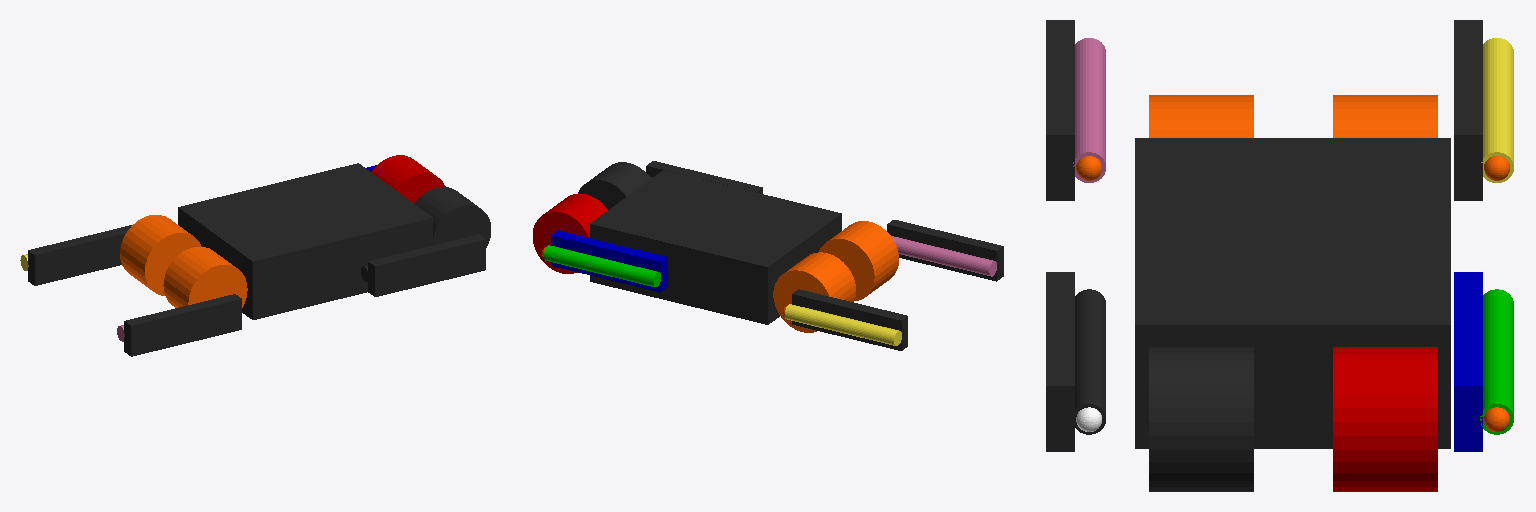
robot.urdf — a1_description:
<?xml version="1.0" ?>
<robot name="a1_description" xmlns:xacro="http://www.ros.org/wiki/xacro">
  <material name="black">
    <color rgba="0.0 0.0 0.0 1.0"/>
  </material>
  <material name="blue">
    <color rgba="0.0 0.0 0.8 1.0"/>
  </material>
  <material name="green">
    <color rgba="0.0 0.8 0.0 1.0"/>
  </material>
  <material name="grey">
    <color rgba="0.2 0.2 0.2 1.0"/>
  </material>
  <material name="silver">
    <color rgba="0.913725490196 0.913725490196 0.847058823529 1.0"/>
  </material>
  <material name="orange">
    <color rgba="1.0 0.423529411765 0.0392156862745 1.0"/>
  </material>
  <material name="brown">
    <color rgba="0.870588235294 0.811764705882 0.764705882353 1.0"/>
  </material>
  <material name="red">
    <color rgba="0.8 0.0 0.0 1.0"/>
  </material>
  <material name="white">
    <color rgba="1.0 1.0 1.0 1.0"/>
  </material>
  <link name="trunk">
    <visual>
      <origin rpy="0 0 0" xyz="0 0 0"/>
      <geometry>
        <box size="0.335 0.24 0.104"/>
      </geometry>
      <material name="grey"/>
    </visual>
    <collision>
      <origin rpy="0 0 0" xyz="0 0 0"/>
      <geometry>
        <box size="0.335 0.24 0.104"/>
      </geometry>
    </collision>
    <inertial>
      <origin rpy="0 0 0" xyz="0 0 0"/>
      <mass value="5.75"/>
      <inertia ixx="0.01683993" ixy="8.3902e-05" ixz="0.000597679" iyy="0.056579028" iyz="2.5134e-05" izz="0.064713601"/>
    </inertial>
  </link>
 
  <joint name="FR_hip_joint" type="revolute">
    <origin rpy="0 0 0" xyz="0.2263 -0.07 0"/>
    <parent link="trunk"/>
    <child link="FR_hip"/>
    <axis xyz="1 0 0"/>
    <dynamics damping="0" friction="0"/>
    <limit effort="20" lower="-0.707" upper="0.707" velocity="52.4"/>
  </joint>
  <link name="FR_hip">
    <visual>
      <origin rpy="1.57079632679 0 0" xyz="0 0 0"/>
      <geometry>
        <cylinder length="0.08" radius="0.055"/>
      </geometry>
      <material name="grey"/>
    </visual>
    <collision>
      <origin rpy="1.57079632679 0 0" xyz="0 0 0"/>
      <geometry>
        <cylinder length="0.08" radius="0.055"/>
      </geometry>
    </collision>
    <inertial>
      <origin rpy="0 0 0" xyz="-0.003311 -0.000635 3.1e-05"/>
      <mass value="0.575"/>
      <inertia ixx="0.000469246" ixy="9.409e-06" ixz="-3.42e-07" iyy="0.00080749" iyz="4.66e-07" izz="0.000552929"/>
    </inertial>
  </link>
  <joint name="FR_hip_fixed" type="fixed">
    <origin rpy="0 0 0" xyz="0 -0.081 0"/>
    <parent link="FR_hip"/>
    <child link="FR_upper_shoulder"/>
  </joint>
  <!-- this link is only for collision -->
  <link name="FR_upper_shoulder">
    <collision>
      <origin rpy="1.57079632679 0 0" xyz="0 0 0"/>
      <geometry>
        <cylinder length="0.032" radius="0.041"/>
      </geometry>
    </collision>
  </link>
  <joint name="FR_upper_joint" type="revolute">
    <origin rpy="0 0 0" xyz="0 -0.08505 0"/>
    <parent link="FR_hip"/>
    <child link="FR_upper"/>
    <axis xyz="0 1 0"/>
    <dynamics damping="0" friction="0"/>
    <limit effort="55" lower="-6.28318530718" upper="6.28318530718" velocity="28.6"/>
  </joint>
  <link name="FR_upper">
    <visual>
      <origin rpy="0 0 0" xyz="-0.103 -0.022 0"/>
      <geometry>
        <box size="0.206 0.022 0.055"/>
      </geometry>
      <material name="grey"/>
    </visual>
    <collision>
      <origin rpy="0 0 0" xyz="-0.103 -0.022 0"/>
      <geometry>
        <box size="0.206 0.022 0.055"/>
      </geometry>
    </collision>
    <inertial>
      <origin rpy="0 0 0" xyz="-0.003237 0.022327 -0.027326"/>
      <mass value="0.775"/>
      <inertia ixx="0.005529065" ixy="-4.825e-06" ixz="0.000343869" iyy="0.005139339" iyz="-2.2448e-05" izz="0.001367788"/>
    </inertial>
  </link>
  <joint name="FR_lower_joint" type="revolute">
    <origin rpy="0 0 0" xyz="-0.206 0 0"/>
    <parent link="FR_upper"/>
    <child link="FR_lower"/>
    <axis xyz="0 1 0"/>
    <dynamics damping="0" friction="0"/>
    <limit effort="55" lower="0" upper="3.14159265359" velocity="28.6"/>
  </joint>
  <link name="FR_lower">
    <visual>
      <origin rpy="0 1.5707963268 0" xyz="0.103 0 0"/>
      <geometry>
        <cylinder length="0.206" radius="0.013"/>
      </geometry>
      <material name="grey"/>
    </visual>
    <collision>
      <origin rpy="0 1.5707963268 0" xyz="0.103 0 0"/>
      <geometry>
        <cylinder length="0.206" radius="0.013"/>
      </geometry>
    </collision>
    <inertial>
      <mass value="0.075"/>
      <inertia ixx="5e-06" ixy="0" ixz="0" iyy="0.0001" iyz="0" izz="0.0001"/>
    </inertial>
  </link>
  <joint name="FR_toe_fixed" type="fixed">
     <origin xyz="0.206 0 -0.0"/>
    <parent link="FR_lower"/>
    <child link="FR_toe"/>
  </joint>
  <link name="FR_toe">
    <visual>
      <origin rpy="0 0 0" xyz="0 0 0"/>
      <geometry>
        <sphere radius="0.01"/>
      </geometry>
      <material name="white"/>
    </visual>
    <collision>
      <origin rpy="0 0 0" xyz="0 0 0"/>
      <geometry>
        <sphere radius="0.02"/>
      </geometry>
    </collision>
    <inertial>
      <mass value="0.06"/>
      <inertia ixx="9.6e-06" ixy="0.0" ixz="0.0" iyy="9.6e-06" iyz="0.0" izz="9.6e-06"/>
    </inertial>
  </link>
  
  <joint name="FL_hip_joint" type="revolute">
    <origin rpy="0 0 0" xyz="0.2263 0.07 0"/>
    <parent link="trunk"/>
    <child link="FL_hip"/>
    <axis xyz="1 0 0"/>
    <dynamics damping="0" friction="0"/>
    <limit effort="20" lower="-0.707" upper="0.707" velocity="52.4"/>
  </joint>
  <link name="FL_hip">
    <visual>
      <origin rpy="1.57079632679 0 0" xyz="0 0 0"/>
      <geometry>
        <cylinder length="0.08" radius="0.055"/>
      </geometry>
      <material name="red"/>
    </visual>
    <collision>
      <origin rpy="1.57079632679 0 0" xyz="0 0 0"/>
      <geometry>
        <cylinder length="0.08" radius="0.055"/>
      </geometry>
    </collision>
    <inertial>
      <origin rpy="0 0 0" xyz="-0.003311 0.000635 3.1e-05"/>
      <mass value="0.575"/>
      <inertia ixx="0.000469246" ixy="-9.409e-06" ixz="-3.42e-07" iyy="0.00080749" iyz="-4.66e-07" izz="0.000552929"/>
    </inertial>
  </link>
  <joint name="FL_hip_fixed" type="fixed">
    <origin rpy="0 0 0" xyz="0 0.081 0"/>
    <parent link="FL_hip"/>
    <child link="FL_upper_shoulder"/>
  </joint>
  <!-- this link is only for collision -->
  <link name="FL_upper_shoulder">
    <collision>
      <origin rpy="1.57079632679 0 0" xyz="0 0 0"/>
      <geometry>
        <cylinder length="0.032" radius="0.041"/>
      </geometry>
    </collision>
  </link>
  <joint name="FL_upper_joint" type="revolute">
    <origin rpy="0 0 0" xyz="0 0.08505 0"/>
    <parent link="FL_hip"/>
    <child link="FL_upper"/>
    <axis xyz="0 1 0"/>
    <dynamics damping="0" friction="0"/>
    <limit effort="55" lower="-6.28318530718" upper="6.28318530718" velocity="28.6"/>
  </joint>
  <link name="FL_upper">
    <visual>
      <origin rpy="0 0 0" xyz="-0.103 -0.022 0"/>
      <geometry>
        <box size="0.206 0.022 0.055"/>
      </geometry>
      <material name="blue"/>
    </visual>
    <collision>
      <origin rpy="0 0 0" xyz="-0.103 -0.022 0"/>
      <geometry>
        <box size="0.206 0.022 0.055"/>
      </geometry>
    </collision>
    <inertial>
      <origin rpy="0 0 0" xyz="-0.003237 -0.022327 -0.027326"/>
      <mass value="0.775"/>
      <inertia ixx="0.005529065" ixy="4.825e-06" ixz="0.000343869" iyy="0.005139339" iyz="2.2448e-05" izz="0.001367788"/>
    </inertial>
  </link>
  <joint name="FL_lower_joint" type="revolute">
     <origin xyz="-0.206 0 0"/>
    <parent link="FL_upper"/>
    <child link="FL_lower"/>
    <axis xyz="0 1 0"/>
    <dynamics damping="0" friction="0"/>
    <limit effort="55" lower="0" upper="3.14159265359" velocity="28.6"/>
  </joint>
  <link name="FL_lower">
    <visual>
      <origin rpy="0 1.5707963268 0" xyz="0.103 0 0"/>
      <geometry>
        <cylinder length="0.206" radius="0.013"/>
      </geometry>
      <material name="green"/>
    </visual>
    <collision>
      <origin rpy="0 1.5707963268 0" xyz="0.103 0 0"/>
      <geometry>
        <cylinder length="0.206" radius="0.013"/>
      </geometry>
    </collision>
    <inertial>
      <mass value="0.075"/>
      <inertia ixx="5e-06" ixy="0" ixz="0" iyy="0.0001" iyz="0" izz="0.0001"/>
    </inertial>
  </link>
  <joint name="FL_toe_fixed" type="fixed">
    <origin xyz="0.206 0 -0.0"/>
    <parent link="FL_lower"/>
    <child link="FL_toe"/>
  </joint>
  <link name="FL_toe">
    <visual>
      <origin rpy="0 0 0" xyz="0 0 0"/>
      <geometry>
        <sphere radius="0.01"/>
      </geometry>
      <material name="orange"/>
    </visual>
    <collision>
      <origin rpy="0 0 0" xyz="0 0 0"/>
      <geometry>
        <sphere radius="0.02"/>
      </geometry>
    </collision>
    <inertial>
      <mass value="0.06"/>
      <inertia ixx="9.6e-06" ixy="0.0" ixz="0.0" iyy="9.6e-06" iyz="0.0" izz="9.6e-06"/>
    </inertial>
  </link>
  <transmission name="FL_hip_tran">
    <type>transmission_interface/SimpleTransmission</type>
    <joint name="FL_hip_joint">
      <hardwareInterface>hardware_interface/EffortJointInterface</hardwareInterface>
    </joint>
    <actuator name="FL_hip_motor">
      <hardwareInterface>hardware_interface/EffortJointInterface</hardwareInterface>
      <mechanicalReduction>1</mechanicalReduction>
    </actuator>
  </transmission>
  <transmission name="FL_upper_tran">
    <type>transmission_interface/SimpleTransmission</type>
    <joint name="FL_upper_joint">
      <hardwareInterface>hardware_interface/EffortJointInterface</hardwareInterface>
    </joint>
    <actuator name="FL_upper_motor">
      <hardwareInterface>hardware_interface/EffortJointInterface</hardwareInterface>
      <mechanicalReduction>1</mechanicalReduction>
    </actuator>
  </transmission>
  <transmission name="FL_lower_tran">
    <type>transmission_interface/SimpleTransmission</type>
    <joint name="FL_lower_joint">
      <hardwareInterface>hardware_interface/EffortJointInterface</hardwareInterface>
    </joint>
    <actuator name="FL_lower_motor">
      <hardwareInterface>hardware_interface/EffortJointInterface</hardwareInterface>
      <mechanicalReduction>1</mechanicalReduction>
    </actuator>
  </transmission>
  <joint name="RR_hip_joint" type="revolute">
    <origin rpy="0 0 0" xyz="-0.2263 -0.07 0"/>
    <parent link="trunk"/>
    <child link="RR_hip"/>
    <axis xyz="1 0 0"/>
    <dynamics damping="0" friction="0"/>
    <limit effort="20" lower="-0.707" upper="0.707" velocity="52.4"/>
  </joint>
  <link name="RR_hip">
    <visual>
      <origin rpy="1.57079632679 0 0" xyz="0 0 0"/>
      <geometry>
        <cylinder length="0.08" radius="0.055"/>
      </geometry>
      <material name="orange"/>
    </visual>
    <collision>
      <origin rpy="1.57079632679 0 0" xyz="0 0 0"/>
      <geometry>
        <cylinder length="0.08" radius="0.055"/>
      </geometry>
    </collision>
    <inertial>
      <origin rpy="0 0 0" xyz="0.003311 -0.000635 3.1e-05"/>
      <mass value="0.575"/>
      <inertia ixx="0.000469246" ixy="-9.409e-06" ixz="3.42e-07" iyy="0.00080749" iyz="4.66e-07" izz="0.000552929"/>
    </inertial>
  </link>
  <joint name="RR_hip_fixed" type="fixed">
    <origin rpy="0 0 0" xyz="0 -0.081 0"/>
    <parent link="RR_hip"/>
    <child link="RR_upper_shoulder"/>
  </joint>
  <!-- this link is only for collision -->
  <link name="RR_upper_shoulder">
    <collision>
      <origin rpy="1.57079632679 0 0" xyz="0 0 0"/>
      <geometry>
        <cylinder length="0.032" radius="0.041"/>
      </geometry>
    </collision>
  </link>
  <joint name="RR_upper_joint" type="revolute">
    <origin rpy="0 0 0" xyz="0 -0.08505 0"/>
    <parent link="RR_hip"/>
    <child link="RR_upper"/>
    <axis xyz="0 1 0"/>
    <dynamics damping="0" friction="0"/>
    <limit effort="55" lower="-6.28318530718" upper="6.28318530718" velocity="28.6"/>
  </joint>
  <link name="RR_upper">
    <visual>
      <origin rpy="0 0 0" xyz="-0.103 -0.022 0"/>
      <geometry>
        <box size="0.206 0.022 0.055"/>
      </geometry>
      <material name="grey"/>
    </visual>
    <collision>
      <origin rpy="0 0 0" xyz="-0.103 -0.022 0"/>
      <geometry>
        <box size="0.206 0.022 0.055"/>
      </geometry>
    </collision>
    <inertial>
      <origin rpy="0 0 0" xyz="-0.003237 0.022327 -0.027326"/>
      <mass value="0.775"/>
      <inertia ixx="0.005529065" ixy="-4.825e-06" ixz="0.000343869" iyy="0.005139339" iyz="-2.2448e-05" izz="0.001367788"/>
    </inertial>
  </link>
  <joint name="RR_lower_joint" type="revolute">
    <origin rpy="0 0 0" xyz="-0.206 0 0"/>
    <parent link="RR_upper"/>
    <child link="RR_lower"/>
    <axis xyz="0 1 0"/>
    <dynamics damping="0" friction="0"/>
    <limit effort="55" lower="0" upper="3.14159265359" velocity="28.6"/>
  </joint>
  <link name="RR_lower">
    <visual>
      <origin rpy="0 1.5707963268 0" xyz="0.103 0 0"/>
      <geometry>
        <cylinder length="0.206" radius="0.013"/>
      </geometry>
      <material name="darkgray"/>
    </visual>
    <collision>
      <origin rpy="0 1.5707963268 0" xyz="0.103 0 0"/>
      <geometry>
        <cylinder length="0.206" radius="0.013"/>
      </geometry>
    </collision>
    <inertial>
      <mass value="0.075"/>
      <inertia ixx="5e-06" ixy="0" ixz="0" iyy="0.0001" iyz="0" izz="0.0001"/>
    </inertial>
  </link>
  <joint name="RR_toe_fixed" type="fixed">
  <origin xyz="0.206 0 -0.0"/>
    <parent link="RR_lower"/>
    <child link="RR_toe"/>
  </joint>
  <link name="RR_toe">
    <visual>
      <origin rpy="0 0 0" xyz="0 0 0"/>
      <geometry>
        <sphere radius="0.01"/>
      </geometry>
      <material name="orange"/>
    </visual>
    <collision>
      <origin rpy="0 0 0" xyz="0 0 0"/>
      <geometry>
        <sphere radius="0.02"/>
      </geometry>
    </collision>
    <inertial>
      <mass value="0.06"/>
      <inertia ixx="9.6e-06" ixy="0.0" ixz="0.0" iyy="9.6e-06" iyz="0.0" izz="9.6e-06"/>
    </inertial>
  </link>
  <transmission name="RR_hip_tran">
    <type>transmission_interface/SimpleTransmission</type>
    <joint name="RR_hip_joint">
      <hardwareInterface>hardware_interface/EffortJointInterface</hardwareInterface>
    </joint>
    <actuator name="RR_hip_motor">
      <hardwareInterface>hardware_interface/EffortJointInterface</hardwareInterface>
      <mechanicalReduction>1</mechanicalReduction>
    </actuator>
  </transmission>
  <transmission name="RR_upper_tran">
    <type>transmission_interface/SimpleTransmission</type>
    <joint name="RR_upper_joint">
      <hardwareInterface>hardware_interface/EffortJointInterface</hardwareInterface>
    </joint>
    <actuator name="RR_upper_motor">
      <hardwareInterface>hardware_interface/EffortJointInterface</hardwareInterface>
      <mechanicalReduction>1</mechanicalReduction>
    </actuator>
  </transmission>
  <transmission name="RR_lower_tran">
    <type>transmission_interface/SimpleTransmission</type>
    <joint name="RR_lower_joint">
      <hardwareInterface>hardware_interface/EffortJointInterface</hardwareInterface>
    </joint>
    <actuator name="RR_lower_motor">
      <hardwareInterface>hardware_interface/EffortJointInterface</hardwareInterface>
      <mechanicalReduction>1</mechanicalReduction>
    </actuator>
  </transmission>
  <joint name="RL_hip_joint" type="revolute">
    <origin rpy="0 0 0" xyz="-0.2263 0.07 0"/>
    <parent link="trunk"/>
    <child link="RL_hip"/>
    <axis xyz="1 0 0"/>
    <dynamics damping="0" friction="0"/>
    <limit effort="20" lower="-0.707" upper="0.707" velocity="52.4"/>
  </joint>
  <link name="RL_hip">
    <visual>
      <origin rpy="1.57079632679 0 0" xyz="0 0 0"/>
      <geometry>
        <cylinder length="0.08" radius="0.055"/>
      </geometry>
      <material name="orange"/>
    </visual>
    <collision>
      <origin rpy="1.57079632679 0 0" xyz="0 0 0"/>
      <geometry>
        <cylinder length="0.08" radius="0.055"/>
      </geometry>
    </collision>
    <inertial>
      <origin rpy="0 0 0" xyz="0.003311 0.000635 3.1e-05"/>
      <mass value="0.575"/>
      <inertia ixx="0.000469246" ixy="9.409e-06" ixz="3.42e-07" iyy="0.00080749" iyz="-4.66e-07" izz="0.000552929"/>
    </inertial>
  </link>
  <joint name="RL_hip_fixed" type="fixed">
    <origin rpy="0 0 0" xyz="0 0.081 0"/>
    <parent link="RL_hip"/>
    <child link="RL_upper_shoulder"/>
  </joint>
  <!-- this link is only for collision -->
  <link name="RL_upper_shoulder">
    <collision>
      <origin rpy="1.57079632679 0 0" xyz="0 0 0"/>
      <geometry>
        <cylinder length="0.032" radius="0.041"/>
      </geometry>
    </collision>
  </link>
  <joint name="RL_upper_joint" type="revolute">
    <origin rpy="0 0 0" xyz="0 0.08505 0"/>
    <parent link="RL_hip"/>
    <child link="RL_upper"/>
    <axis xyz="0 1 0"/>
    <dynamics damping="0" friction="0"/>
    <limit effort="55" lower="-6.28318530718" upper="6.28318530718" velocity="28.6"/>
  </joint>
  <link name="RL_upper">
    <visual>
      <origin rpy="0 0 0" xyz="-0.103 -0.022 0"/>
      <geometry>
        <box size="0.206 0.022 0.055"/>
      </geometry>
      <material name="grey"/>
    </visual>
    <collision>
      <origin rpy="0 0 0" xyz="-0.103 -0.022 0"/>
      <geometry>
        <box size="0.206 0.022 0.055"/>
      </geometry>
    </collision>
    <inertial>
      <origin rpy="0 0 0" xyz="-0.003237 0.022327 -0.027326"/>
      <mass value="0.775"/>
      <inertia ixx="0.005529065" ixy="-4.825e-06" ixz="0.000343869" iyy="0.005139339" iyz="-2.2448e-05" izz="0.001367788"/>
    </inertial>
  </link>
  <joint name="RL_lower_joint" type="revolute">
    <axis xyz="0 1 0"/>
    <origin xyz="-0.206 0 0"/>
    <parent link="RL_upper"/>
    <child link="RL_lower"/>
    <axis xyz="0 1 0"/>
    <dynamics damping="0" friction="0"/>
    <limit effort="55" lower="0" upper="3.14159265359" velocity="28.6"/>
  </joint>
  <link name="RL_lower">
     <visual>
      <origin rpy="0 1.5707963268 0" xyz="0.103 0 0"/>
      <geometry>
        <cylinder length="0.206" radius="0.013"/>
      </geometry>
      <material name="darkgray"/>
    </visual>
    <collision>
      <origin rpy="0 1.5707963268 0" xyz="0.103 0 0"/>
      <geometry>
        <cylinder length="0.206" radius="0.013"/>
      </geometry>
    </collision>
    <inertial>
      <mass value="0.075"/>
      <inertia ixx="5e-06" ixy="0" ixz="0" iyy="0.0001" iyz="0" izz="0.0001"/>
    </inertial>
  </link>
  <joint name="RL_toe_fixed" type="fixed">
    <origin xyz="0.206 0 -0.0"/>
    <parent link="RL_lower"/>
    <child link="RL_toe"/>
  </joint>
  <link name="RL_toe">
    <visual>
      <origin rpy="0 0 0" xyz="0 0 0"/>
      <geometry>
        <sphere radius="0.01"/>
      </geometry>
      <material name="orange"/>
    </visual>
    <collision>
      <origin rpy="0 0 0" xyz="0 0 0"/>
      <geometry>
        <sphere radius="0.02"/>
      </geometry>
    </collision>
    <inertial>
      <mass value="0.06"/>
      <inertia ixx="9.6e-06" ixy="0.0" ixz="0.0" iyy="9.6e-06" iyz="0.0" izz="9.6e-06"/>
    </inertial>
  </link>
</robot>

--- Render facts (derived) ---
3 views of the same robot in one strip: view 1: azimuth 30°, elevation 25°; view 2: azimuth 150°, elevation 25°; view 3: azimuth 270°, elevation 25° (orthographic).
Model a1_description with 21 links and 20 joints (12 revolute, 8 fixed), rooted at trunk, posed every joint at zero.
Visible links, largest first — view 1: trunk, FR_upper, RR_upper, RL_hip, RR_hip, RL_upper, FR_hip, FL_hip; view 2: trunk, RR_hip, RL_hip, FL_upper, RL_upper, RR_upper, FL_hip, FL_lower, RL_lower, FR_hip, RR_lower, FR_upper; view 3: trunk, FR_hip, FL_hip, RL_upper, RR_upper, FR_upper, FL_upper, RR_hip, RL_hip, FL_lower, FR_lower, RR_lower (+1 smaller).
Link boxes in pixels (x1,y1,x2,y2): trunk: (178,163,432,319); FR_upper: (368,234,485,296); RR_upper: (124,294,241,356); RL_hip: (120,215,201,295); RR_hip: (163,247,247,307); RL_upper: (28,225,131,285); FR_hip: (415,187,490,247); FL_hip: (372,155,445,203); trunk: (590,170,841,324); RR_hip: (819,221,898,300); RL_hip: (773,252,855,332); FL_upper: (551,230,667,292); RL_upper: (792,289,907,350); RR_upper: (887,220,1003,281); FL_hip: (533,194,607,273); FL_lower: (544,245,660,286); RL_lower: (785,304,901,345); FR_hip: (578,162,650,209); RR_lower: (891,236,996,276); FR_upper: (646,161,762,193); trunk: (1135,138,1450,448); FR_hip: (1149,347,1253,491); FL_hip: (1333,347,1437,491); RL_upper: (1454,20,1482,200); RR_upper: (1046,20,1074,200); FR_upper: (1046,272,1074,451); FL_upper: (1454,272,1482,451); RR_hip: (1149,95,1253,137); RL_hip: (1333,95,1437,137); FL_lower: (1480,289,1513,434); FR_lower: (1072,289,1105,434); RR_lower: (1073,38,1105,182).
Bounding box of the posed robot: 0.7136 × 0.3561 × 0.11 m (x, y, z).
Geometry: primitives only (box / cylinder / sphere), no mesh files.
